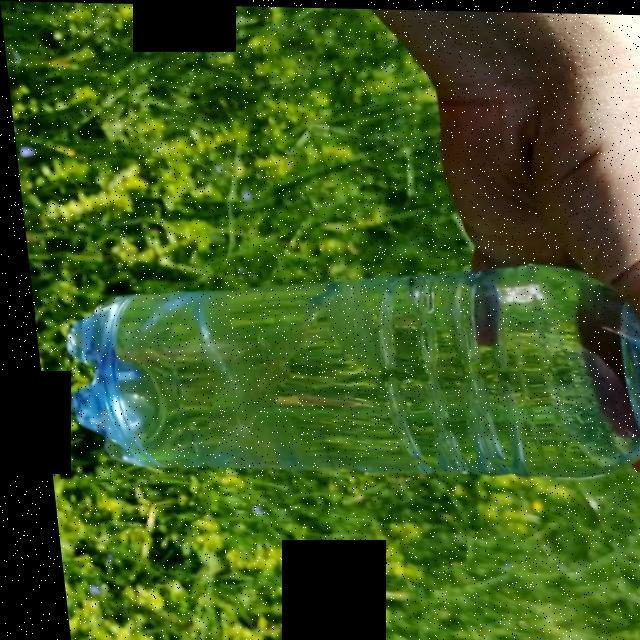water: (52, 262, 640, 469)
